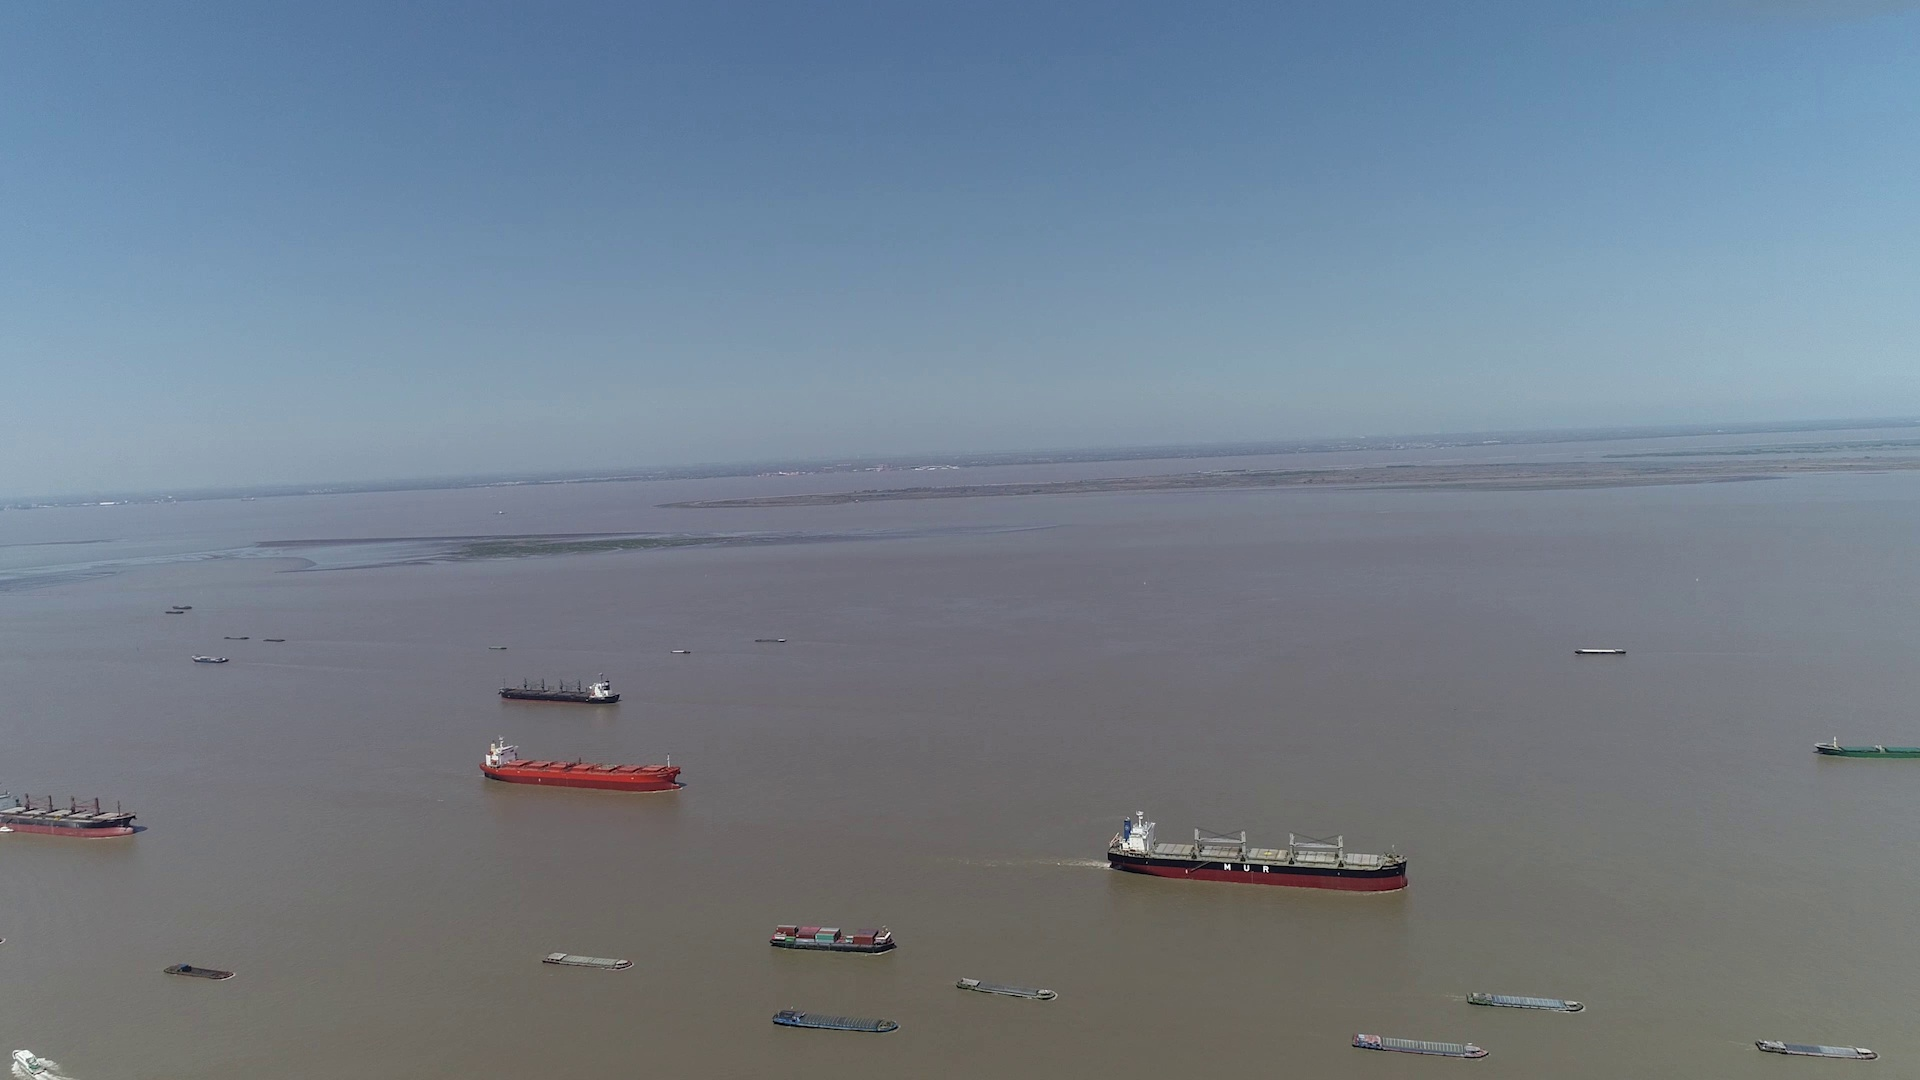ship: (1102, 810, 1412, 894), (480, 733, 684, 791), (0, 786, 138, 839), (770, 922, 895, 953), (496, 675, 621, 705), (1352, 1033, 1487, 1059), (769, 1007, 898, 1033), (1466, 990, 1584, 1014), (1756, 1036, 1879, 1059), (957, 976, 1058, 1001), (1815, 737, 1920, 760), (4, 1043, 61, 1079), (541, 952, 634, 971), (165, 964, 233, 978), (1573, 647, 1629, 655), (193, 653, 229, 665)
